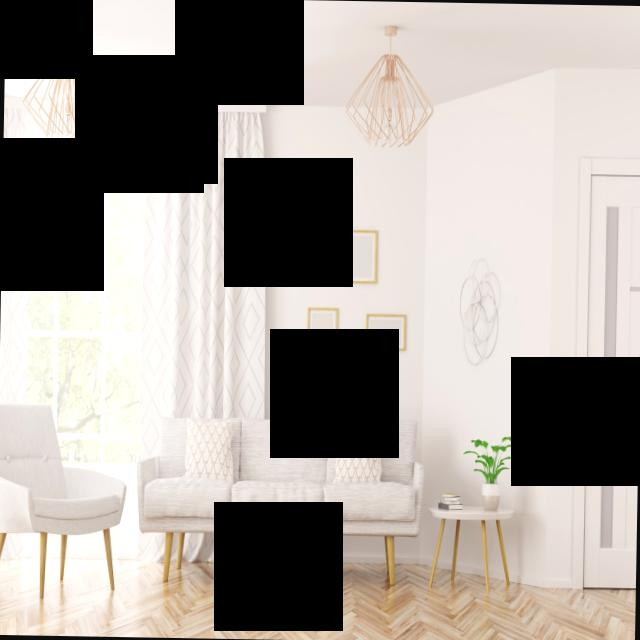white chair: (0, 404, 139, 627)
white desk: (424, 436, 524, 590)
white sofa: (152, 412, 423, 575)
